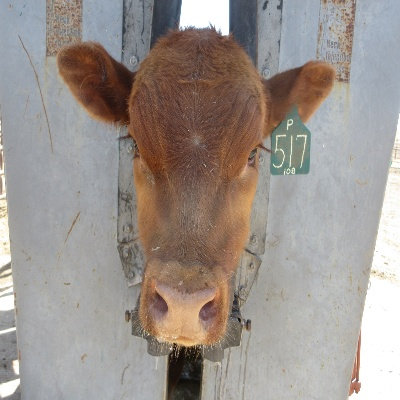fidget_spinner: (140, 276, 229, 349)
